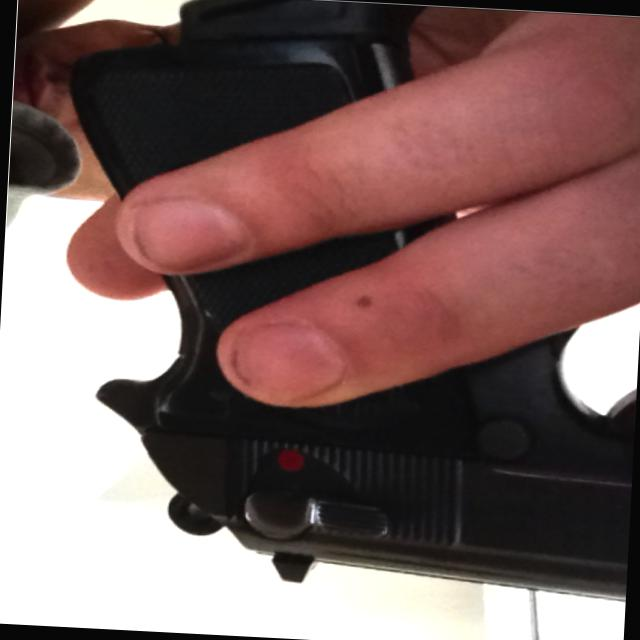handgun: (63, 11, 639, 582)
